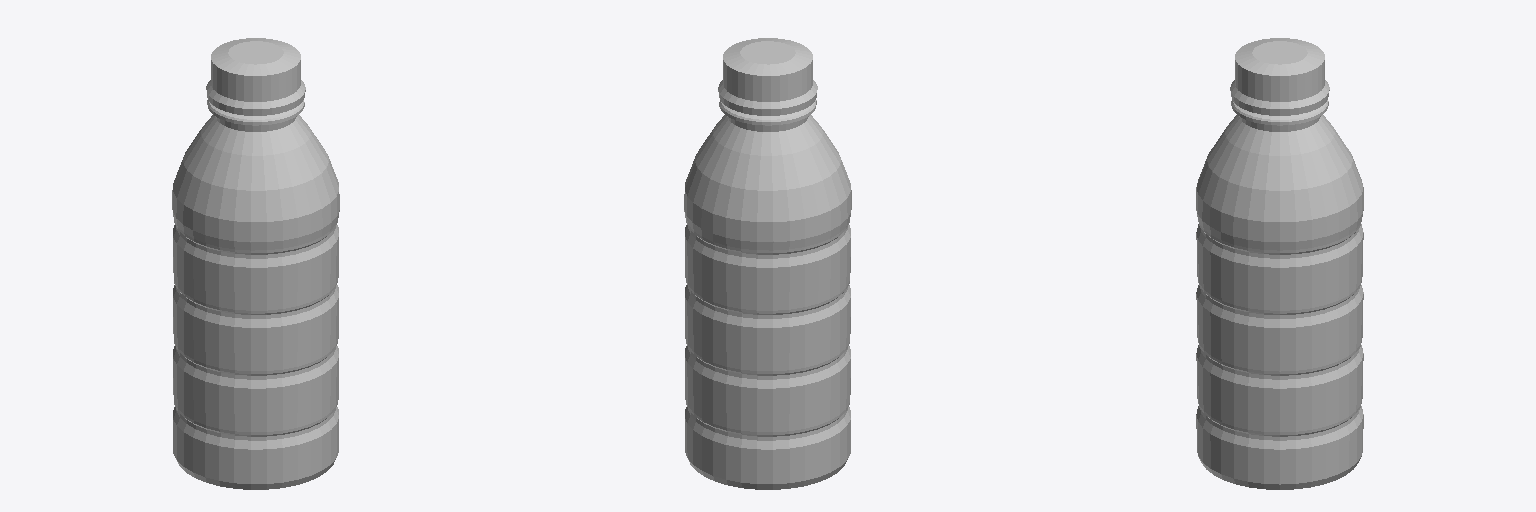
Rendered from crime.obj.
The picture shows the model from 3 angles: view 1: azimuth 30°, elevation 25°; view 2: azimuth 150°, elevation 25°; view 3: azimuth 270°, elevation 25°; orthographic projection.
Visible parts, largest first — view 1: Circle; view 2: Circle; view 3: Circle.
Part boxes in pixels (bbox=[...]): Circle: bbox=[172, 38, 339, 489]; Circle: bbox=[684, 38, 851, 489]; Circle: bbox=[1196, 38, 1363, 489].
Size of the model in its own units: 1.39 by 3.71 by 1.39.